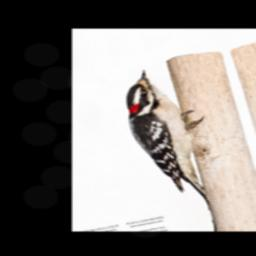Woodpecker: (114, 61, 224, 198)
